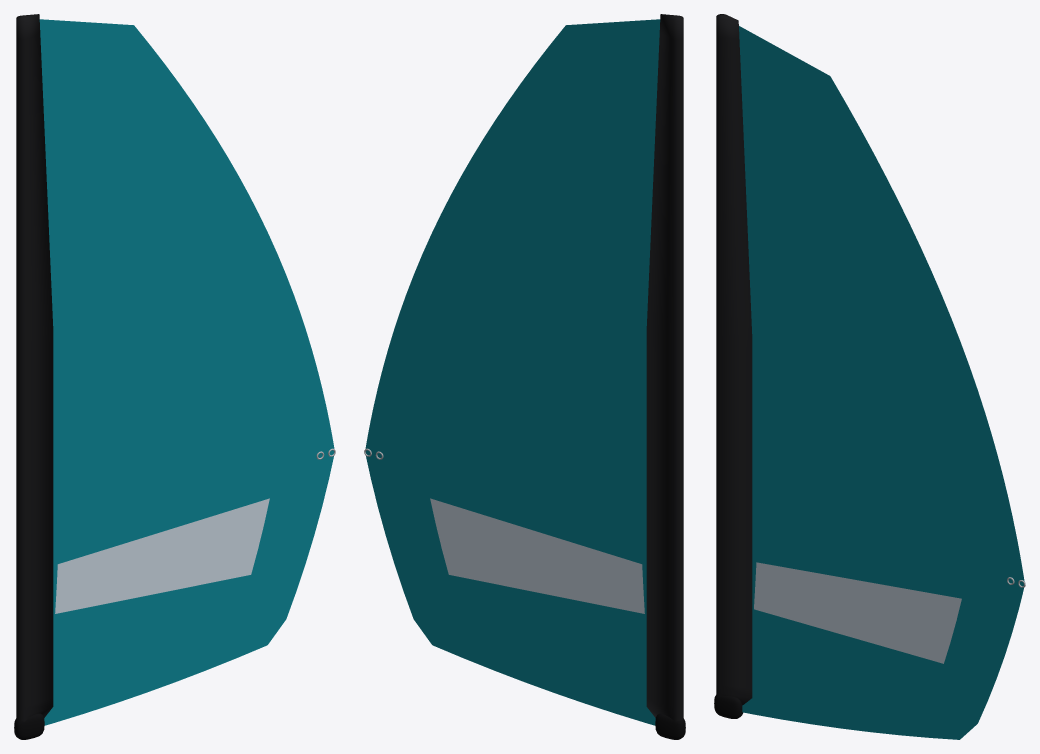
File: s3kauai_slalom_6_7.glb
3 views of the same model, side by side, from view 1: azimuth 30°, elevation 25°; view 2: azimuth 150°, elevation 25°; view 3: azimuth 330°, elevation 25° (orthographic). The views are drawn at different scales.
Visible parts, largest first — view 1: SailCloth, TackFairing; view 2: SailCloth, TackFairing; view 3: SailCloth, TackFairing.
Boxes of the visible parts, <box> form: SailCloth: <box>16,14,334,725</box>; TackFairing: <box>14,713,44,739</box>; SailCloth: <box>365,14,683,725</box>; TackFairing: <box>655,713,685,739</box>; SailCloth: <box>716,14,1024,739</box>; TackFairing: <box>714,695,742,718</box>.
Size of the model in its own units: 2.07 by 4.47 by 0.08.
